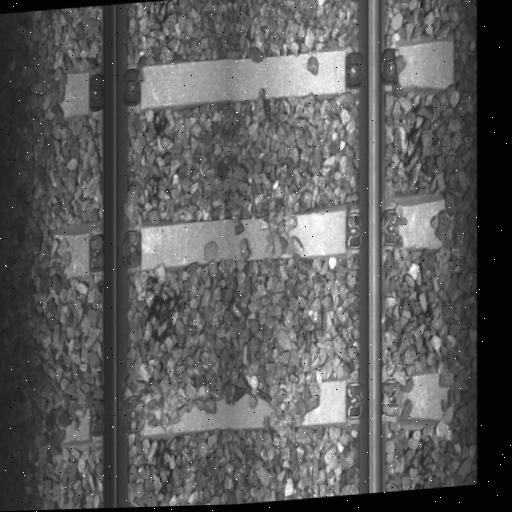sleeper: (36, 178, 449, 289), (35, 27, 460, 132), (39, 343, 455, 450)
